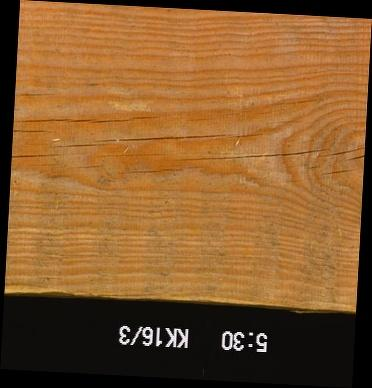split: (178, 143, 327, 167), (93, 130, 227, 147), (91, 111, 157, 127), (100, 148, 174, 160), (117, 165, 182, 178), (320, 141, 364, 160), (12, 116, 94, 126), (94, 290, 159, 299), (10, 152, 58, 160), (54, 143, 110, 149), (325, 167, 358, 177), (65, 163, 105, 170), (12, 129, 53, 134), (17, 92, 58, 97)
